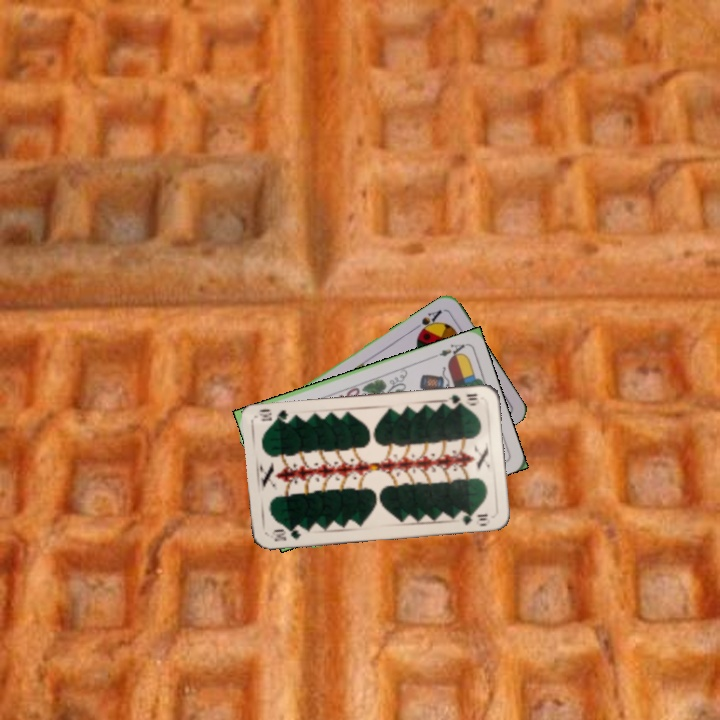EA: (435, 340, 468, 362)
G10: (267, 524, 303, 544), (443, 390, 480, 409)
SA: (410, 305, 445, 337)
